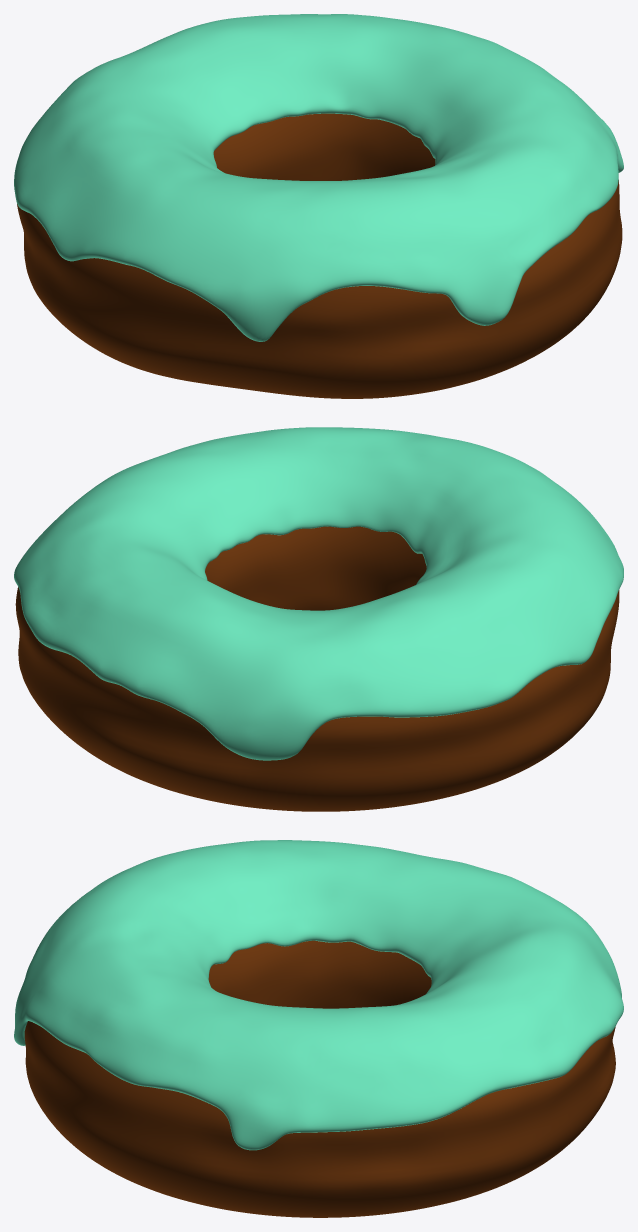
File: donut.glb
3 renders of one model, top to bottom at view 1: azimuth 30°, elevation 25°; view 2: azimuth 150°, elevation 25°; view 3: azimuth 270°, elevation 25°, orthographic. The views are drawn at different scales.
Parts seen in each view (by area): view 1: Icing, Donut; view 2: Icing, Donut; view 3: Icing, Donut.
Part boxes in pixels (left/top/right/bottom): Icing: left=14, top=14, right=623, bottom=341; Donut: left=17, top=113, right=622, bottom=398; Icing: left=14, top=427, right=623, bottom=760; Donut: left=15, top=526, right=619, bottom=811; Icing: left=14, top=840, right=623, bottom=1150; Donut: left=24, top=940, right=615, bottom=1217.
Bounding box in the file's own units: 0.1147 × 0.0419 × 0.1162.
